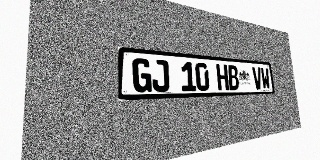0: (195, 62, 209, 91)
1: (180, 61, 196, 91)
B: (227, 65, 239, 90)
G: (132, 58, 152, 92)
H: (216, 64, 229, 90)
J: (151, 59, 170, 92)
V: (252, 67, 263, 89)
W: (260, 67, 270, 89)
